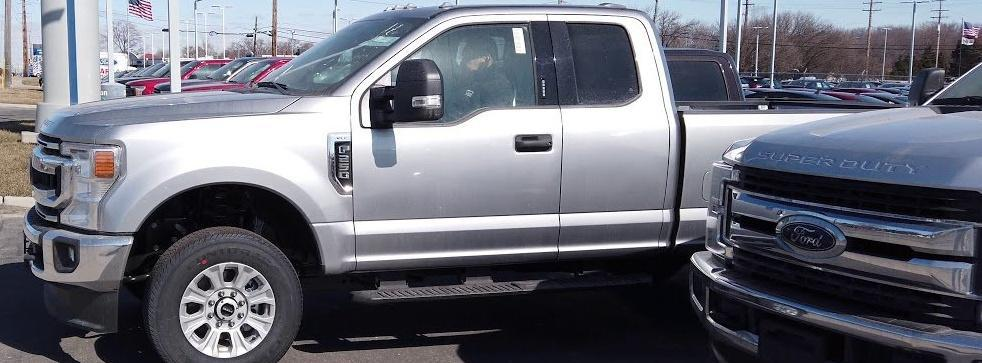Trucks: (24, 7, 849, 363)
